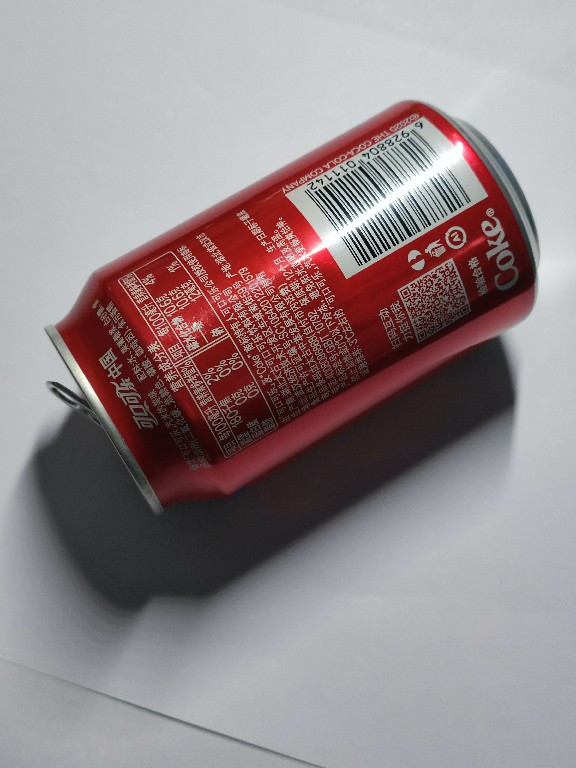can: (37, 98, 545, 518)
